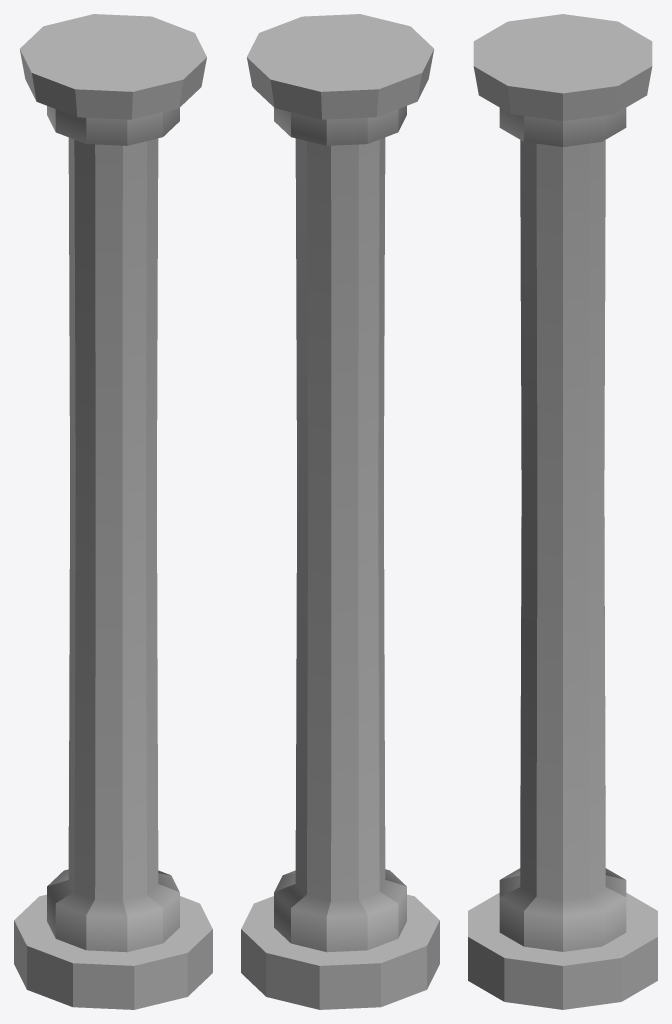
Rendered from Castle_BigPillar.fbx.
3 views of the same model, side by side, from view 1: azimuth 30°, elevation 25°; view 2: azimuth 150°, elevation 25°; view 3: azimuth 270°, elevation 25° (orthographic).
Visible parts, largest first — view 1: Pillars17; view 2: Pillars17; view 3: Pillars17.
Boxes of the visible parts, left/top/right/bottom form: Pillars17: left=14, top=14, right=212, bottom=1009; Pillars17: left=241, top=14, right=439, bottom=1009; Pillars17: left=468, top=14, right=657, bottom=1009.
Bounding box in the file's own units: 0.0526 × 0.2657 × 0.05.
